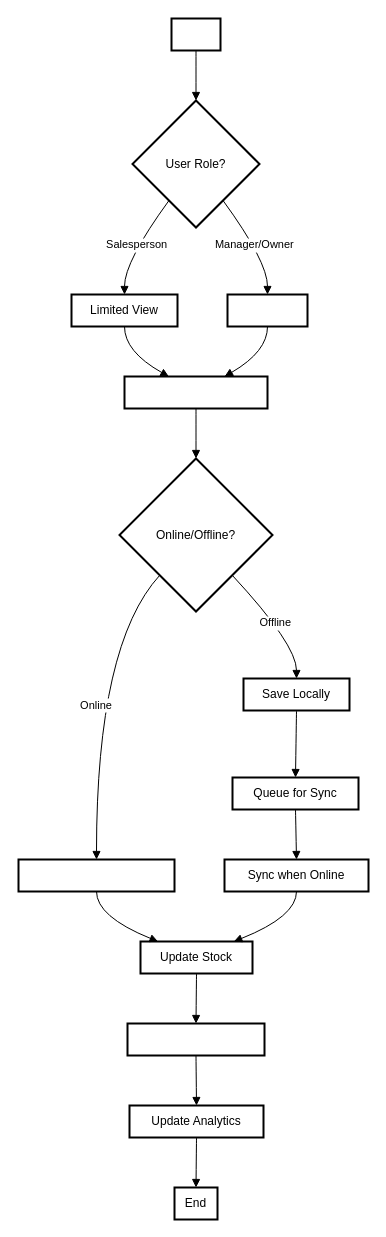
Some shapes in this 386 by 1237 pixel diagram are drawn without their labels. Each missing label, with the box of its shape:
Enter Sale Details: (123, 375, 268, 409)
Full View: (226, 293, 308, 327)
Generate Invoice: (126, 1022, 265, 1056)
Save to DynamoDB: (17, 858, 175, 892)
Start: (170, 17, 221, 51)
